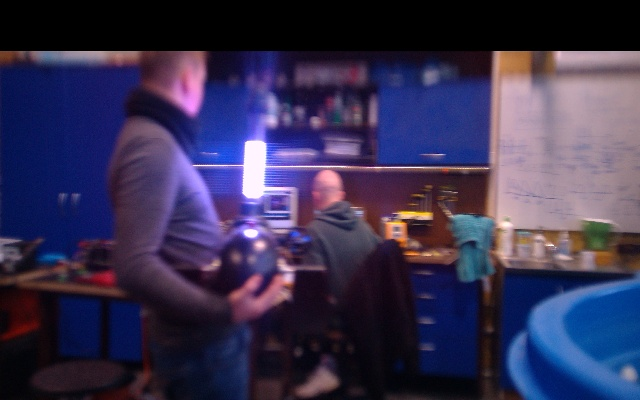white: (245, 140, 264, 202)
